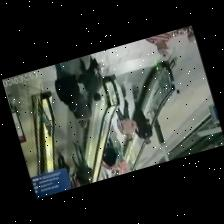person: (55, 63, 79, 110), (83, 56, 102, 100), (134, 98, 152, 143), (72, 143, 92, 183), (117, 98, 136, 140), (147, 31, 176, 58), (61, 55, 90, 82), (74, 93, 92, 127), (114, 133, 128, 173), (102, 136, 117, 173), (71, 155, 87, 184), (177, 25, 196, 42), (57, 151, 69, 175), (102, 174, 109, 179)
